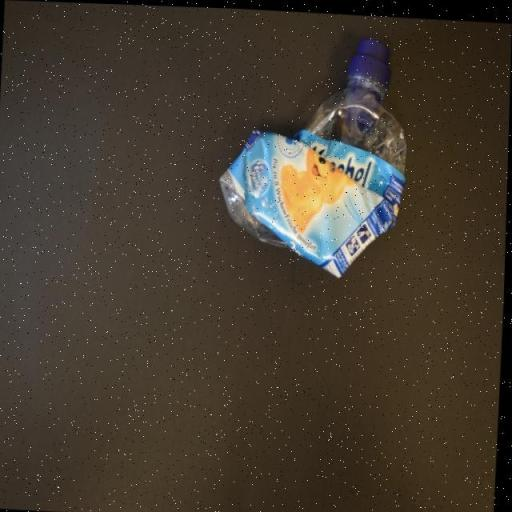plastic: (217, 28, 414, 278)
